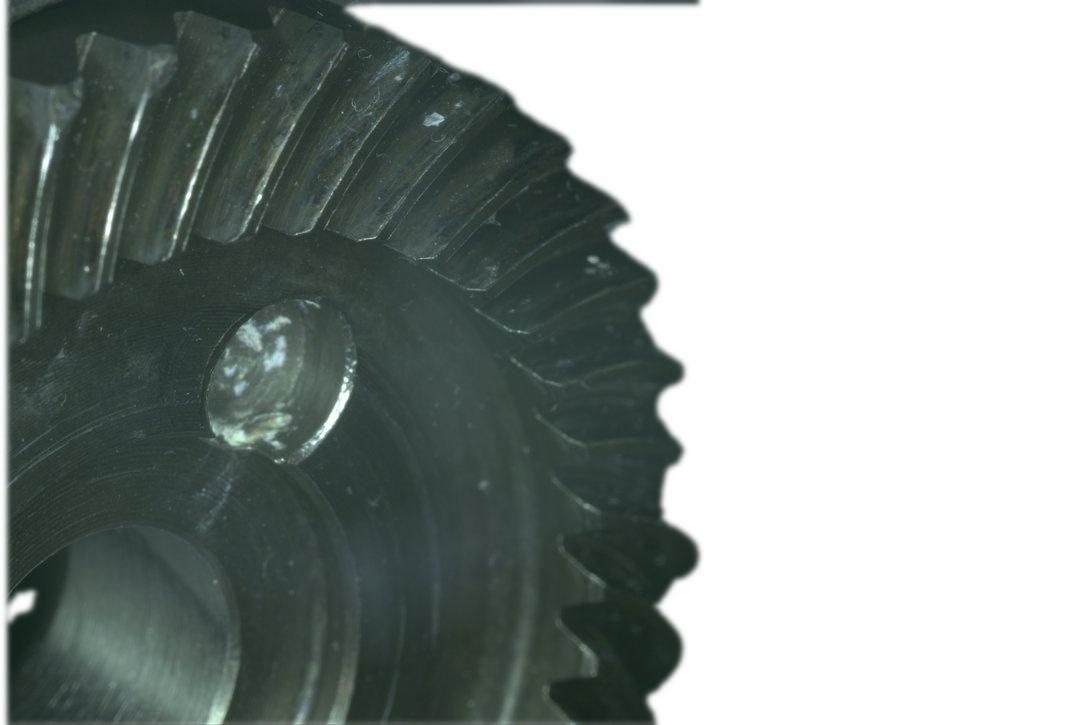defect: (44, 77, 90, 140), (127, 47, 172, 99), (253, 26, 281, 44), (345, 31, 360, 46)
